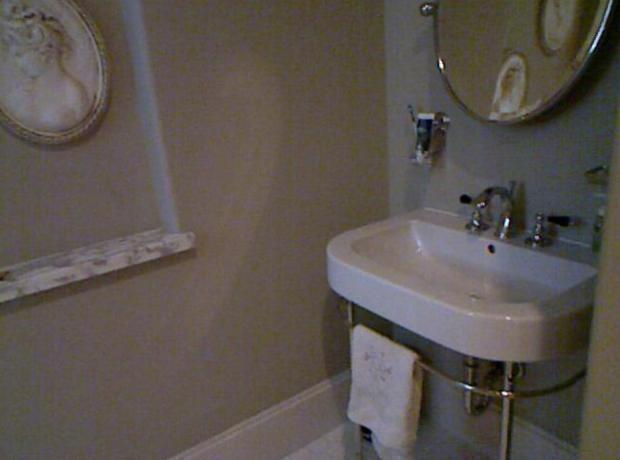Lavamanos: (314, 184, 581, 450)
